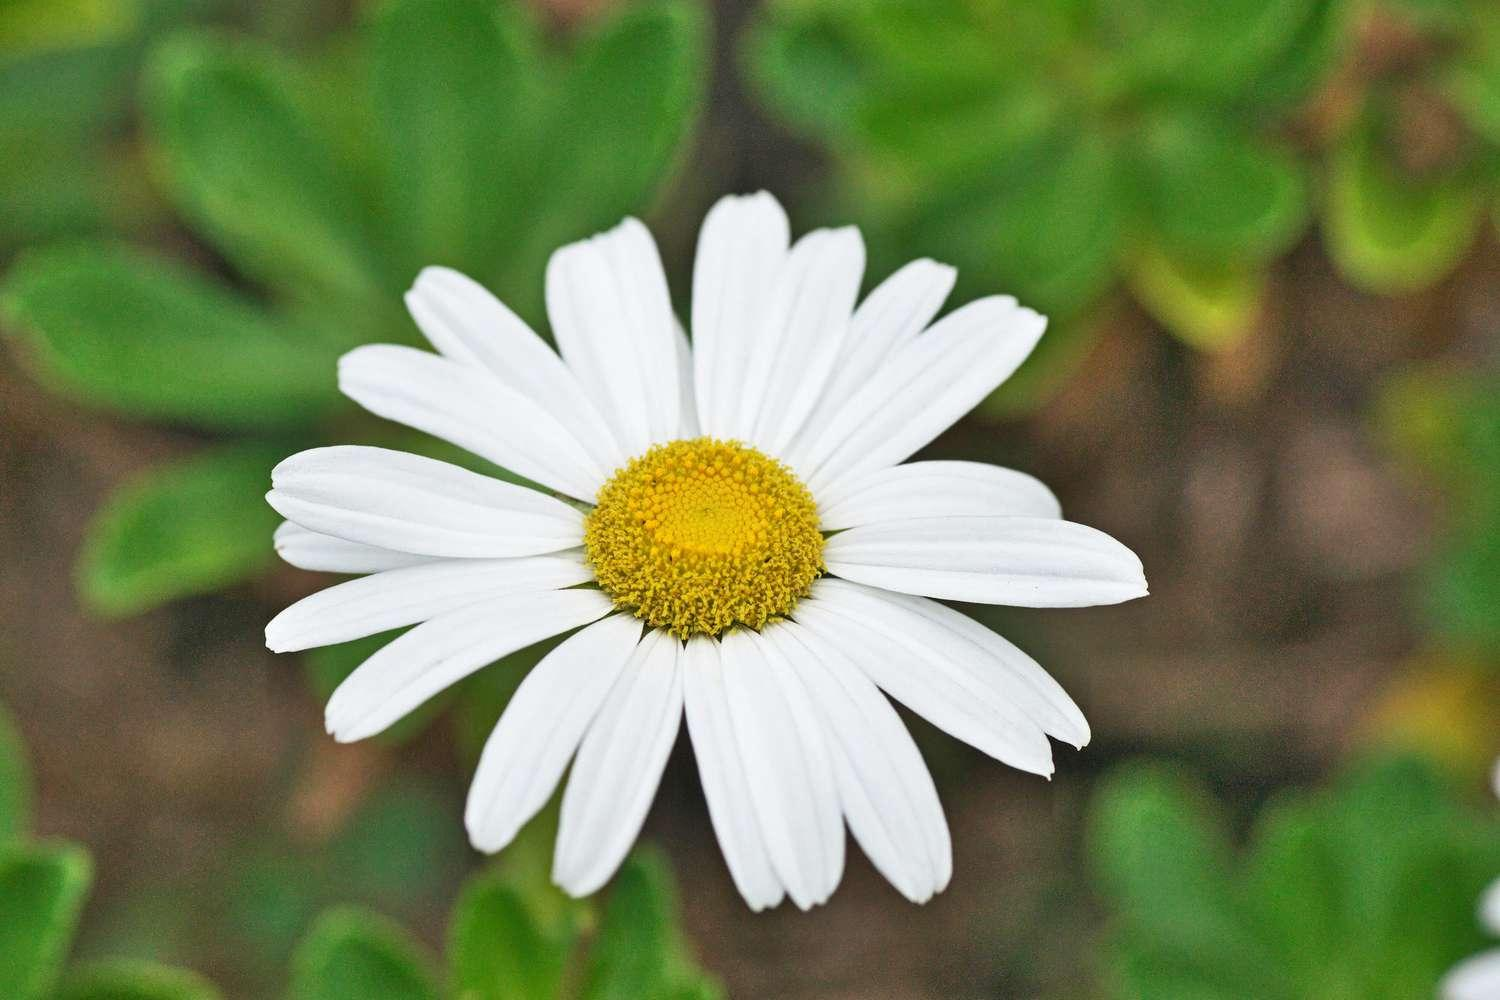daisy: (262, 187, 1158, 898)
